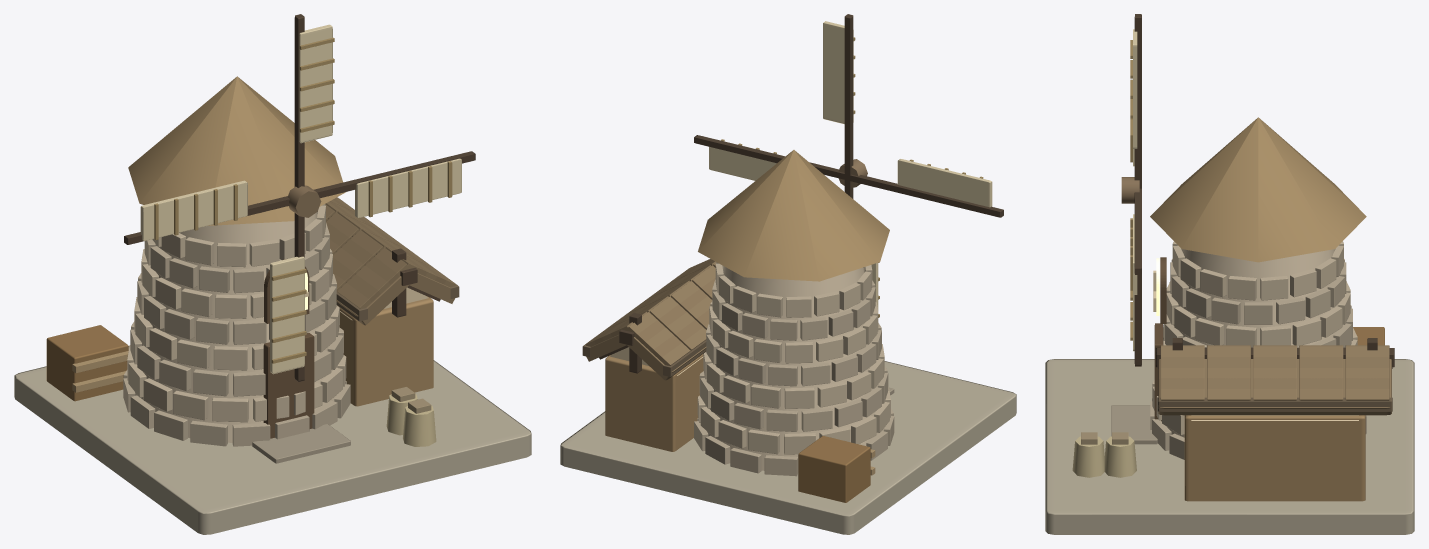
The model's file is mill-3.glb.
3 views of the same model, side by side, from view 1: azimuth 30°, elevation 25°; view 2: azimuth 150°, elevation 25°; view 3: azimuth 270°, elevation 25° (orthographic). The views are drawn at different scales.
Parts seen in each view (by area): view 1: mill-3-0, mill-fan; view 2: mill-3-0, mill-fan; view 3: mill-3-0, mill-fan.
Boxes of the visible parts, x1,y1,x2,y2 form: mill-3-0: (14, 76, 531, 534); mill-fan: (124, 14, 475, 382); mill-3-0: (560, 150, 1016, 534); mill-fan: (694, 14, 1003, 317); mill-3-0: (1045, 117, 1414, 534); mill-fan: (1121, 14, 1141, 366).
Size of the model in its own units: 3.1 by 3.7 by 2.86.
